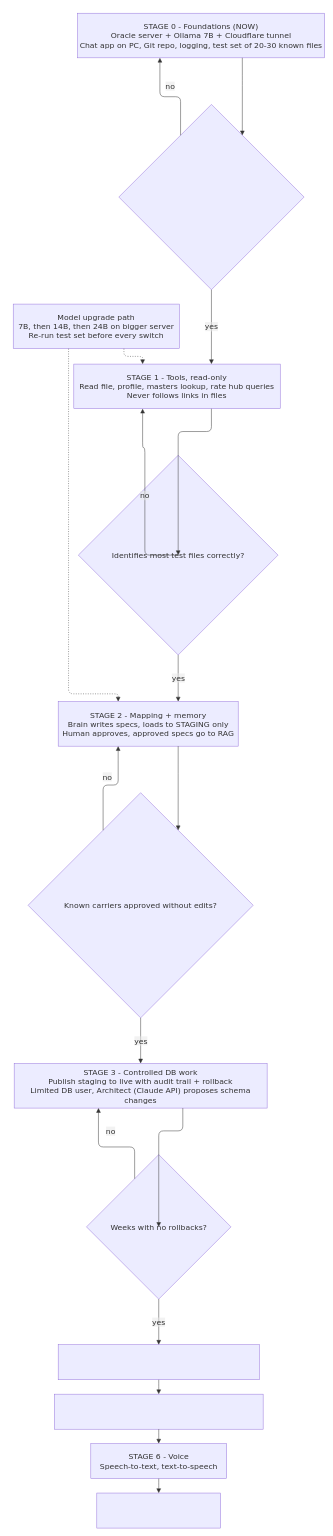
The diagram is 333 pixels wide and 1536 high, and some of its shapes have lost their labels. Here are the shapes that lost their labels. From the top down, the box of each, then its label:
(118, 104, 304, 290): Chat works securely end to end? Baseline score recorded?
(58, 1344, 259, 1380): STAGE 4 - Auditor support Invoice vs contract checks, explains discrepancies
(54, 1394, 263, 1429): STAGE 5 - Management support Brainstorming, reports, what-if, every number cited
(96, 1493, 221, 1528): STAGE 7 - Camera and body Separate research, parked
